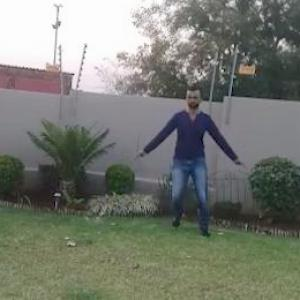land: (136, 90, 248, 238)
